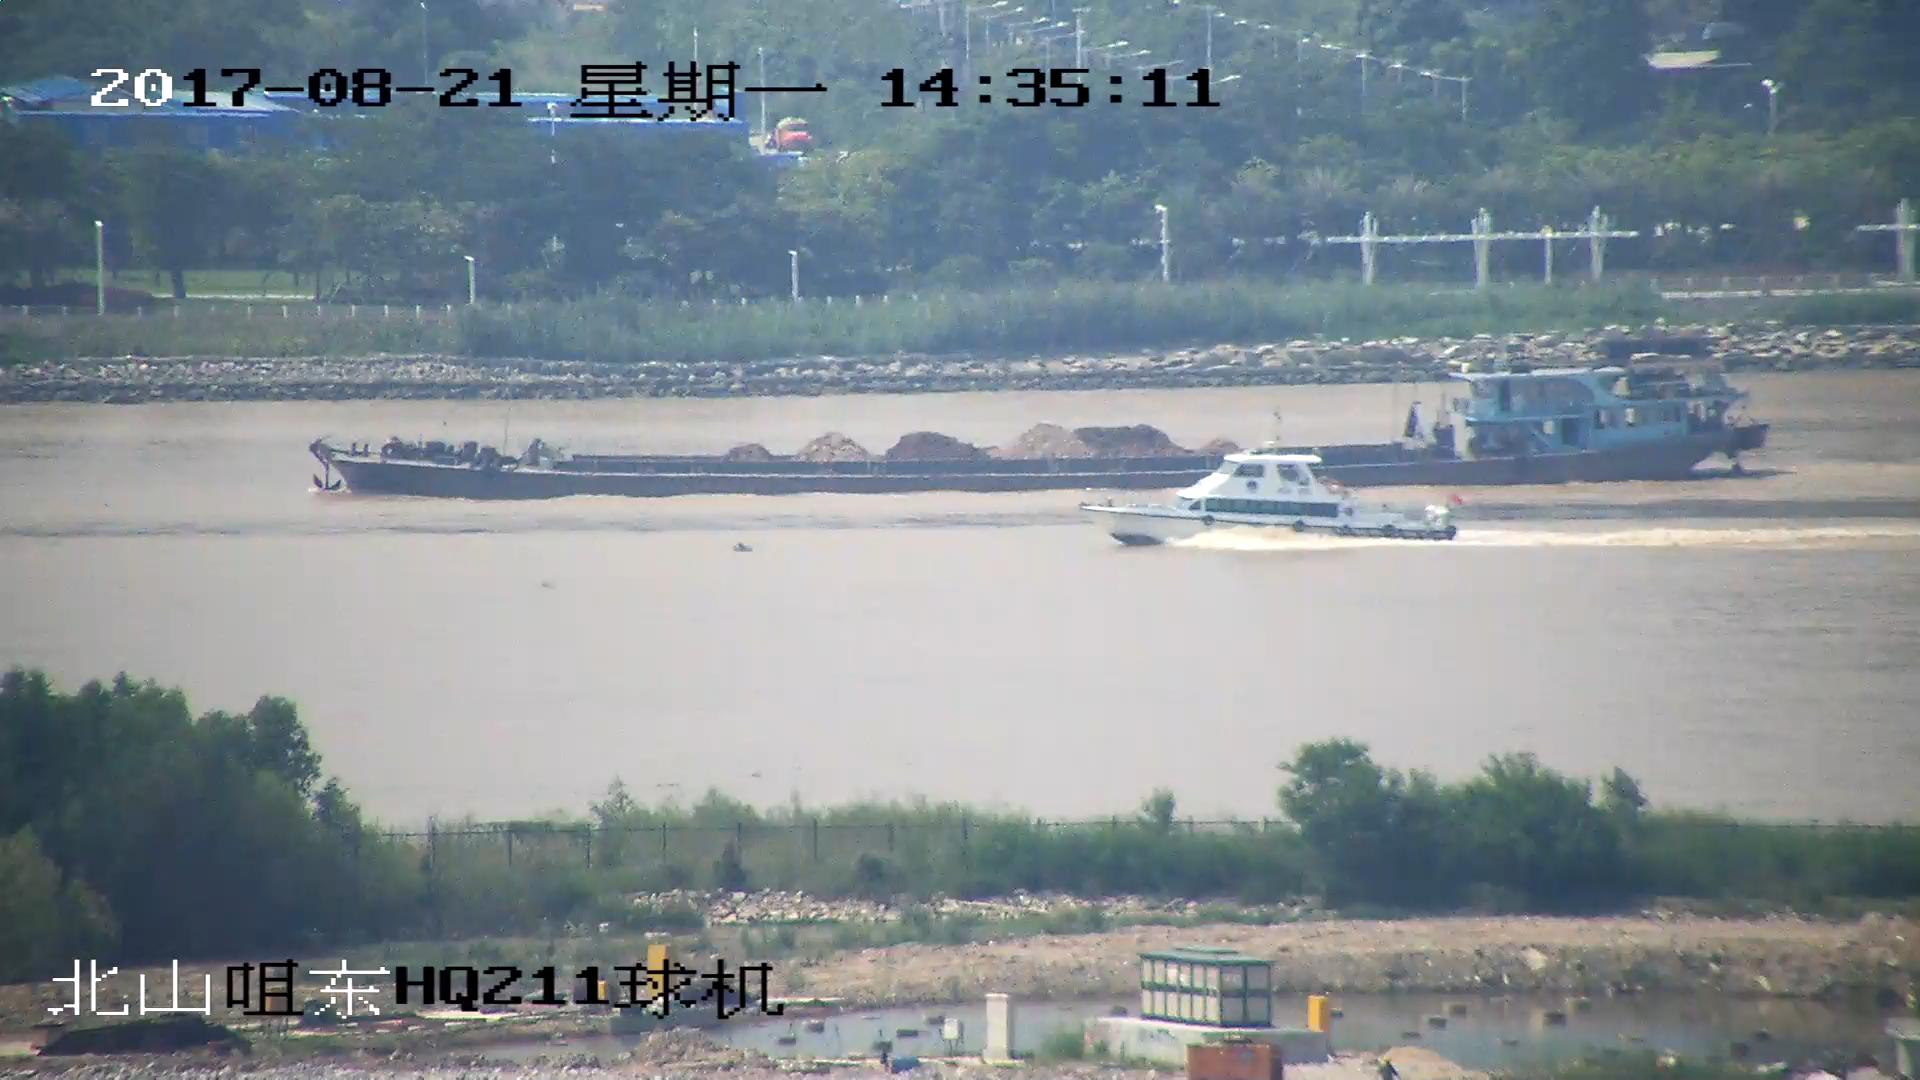ore carrier: (307, 345, 1766, 494)
passenger ship: (1081, 454, 1457, 550)
